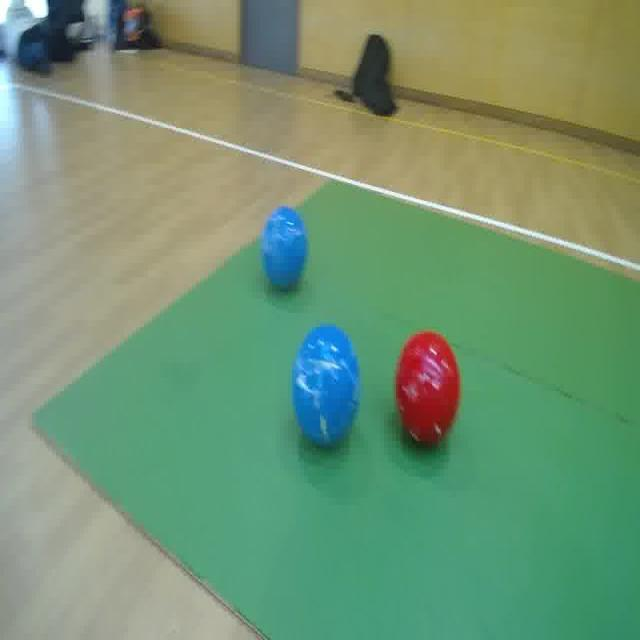blue_ball: (289, 324, 362, 453), (259, 202, 308, 294)
red_ball: (392, 326, 462, 452)
